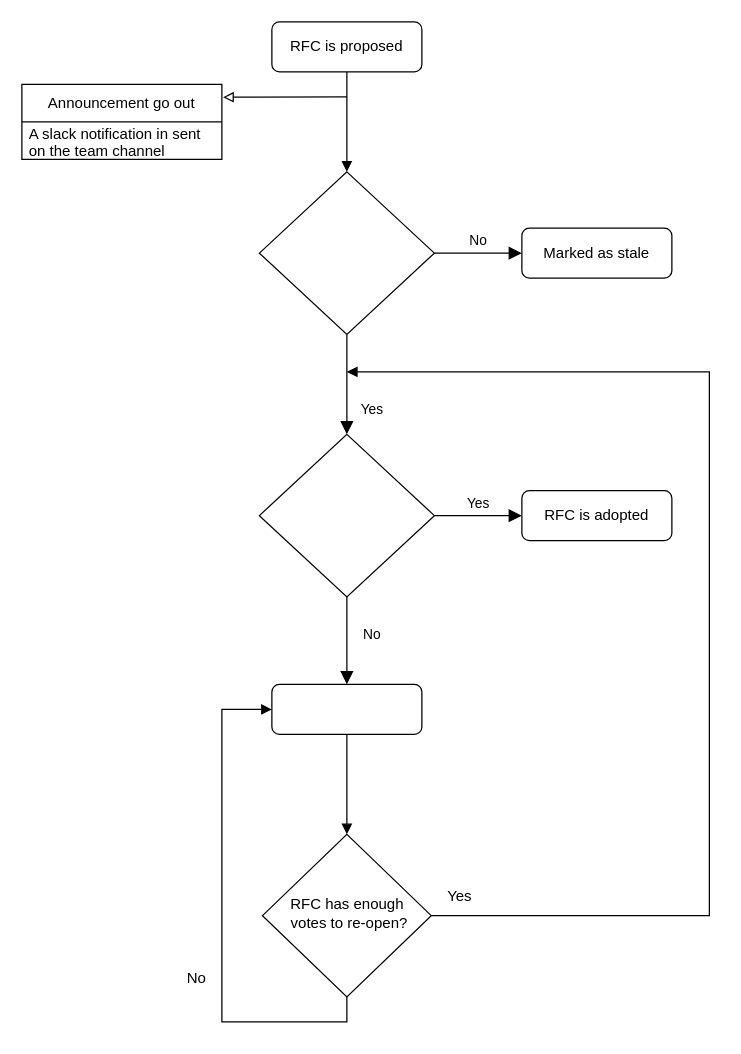
Some shapes in this 741 by 1054 pixel diagram are drawn without their labels. The shapes that lost their labels are listed below. From the top down, each one's centre as x and y in pixels, then its label:
At (x=346, y=252): "RFC has enough commentators to escalate to a vote".
At (x=346, y=515): "Vote on the RFC passes".
At (x=346, y=708): "RFC is closed".
